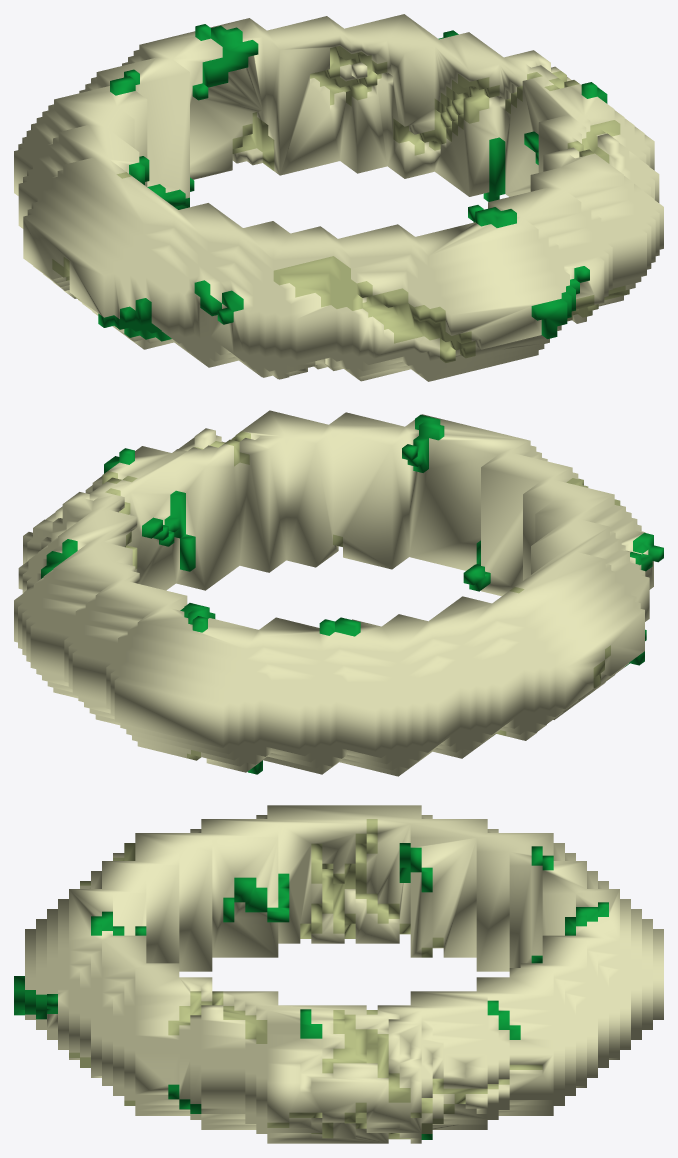
File: GoalRing_Greens_MediumDetail.fbx
The picture shows the model from 3 angles, top to bottom: view 1: azimuth 30°, elevation 25°; view 2: azimuth 150°, elevation 25°; view 3: azimuth 270°, elevation 25°; orthographic projection. The views are drawn at different scales.
Visible parts, largest first — view 1: GoalRing_Greens_MediumDetail; view 2: GoalRing_Greens_MediumDetail; view 3: GoalRing_Greens_MediumDetail.
Boxes of the visible parts, box(x1,y1,x2,y2) form: GoalRing_Greens_MediumDetail: box(14, 14, 663, 381); GoalRing_Greens_MediumDetail: box(14, 410, 663, 776); GoalRing_Greens_MediumDetail: box(14, 805, 663, 1143).
Bounding box in the file's own units: 21601 × 5499 × 23172.
